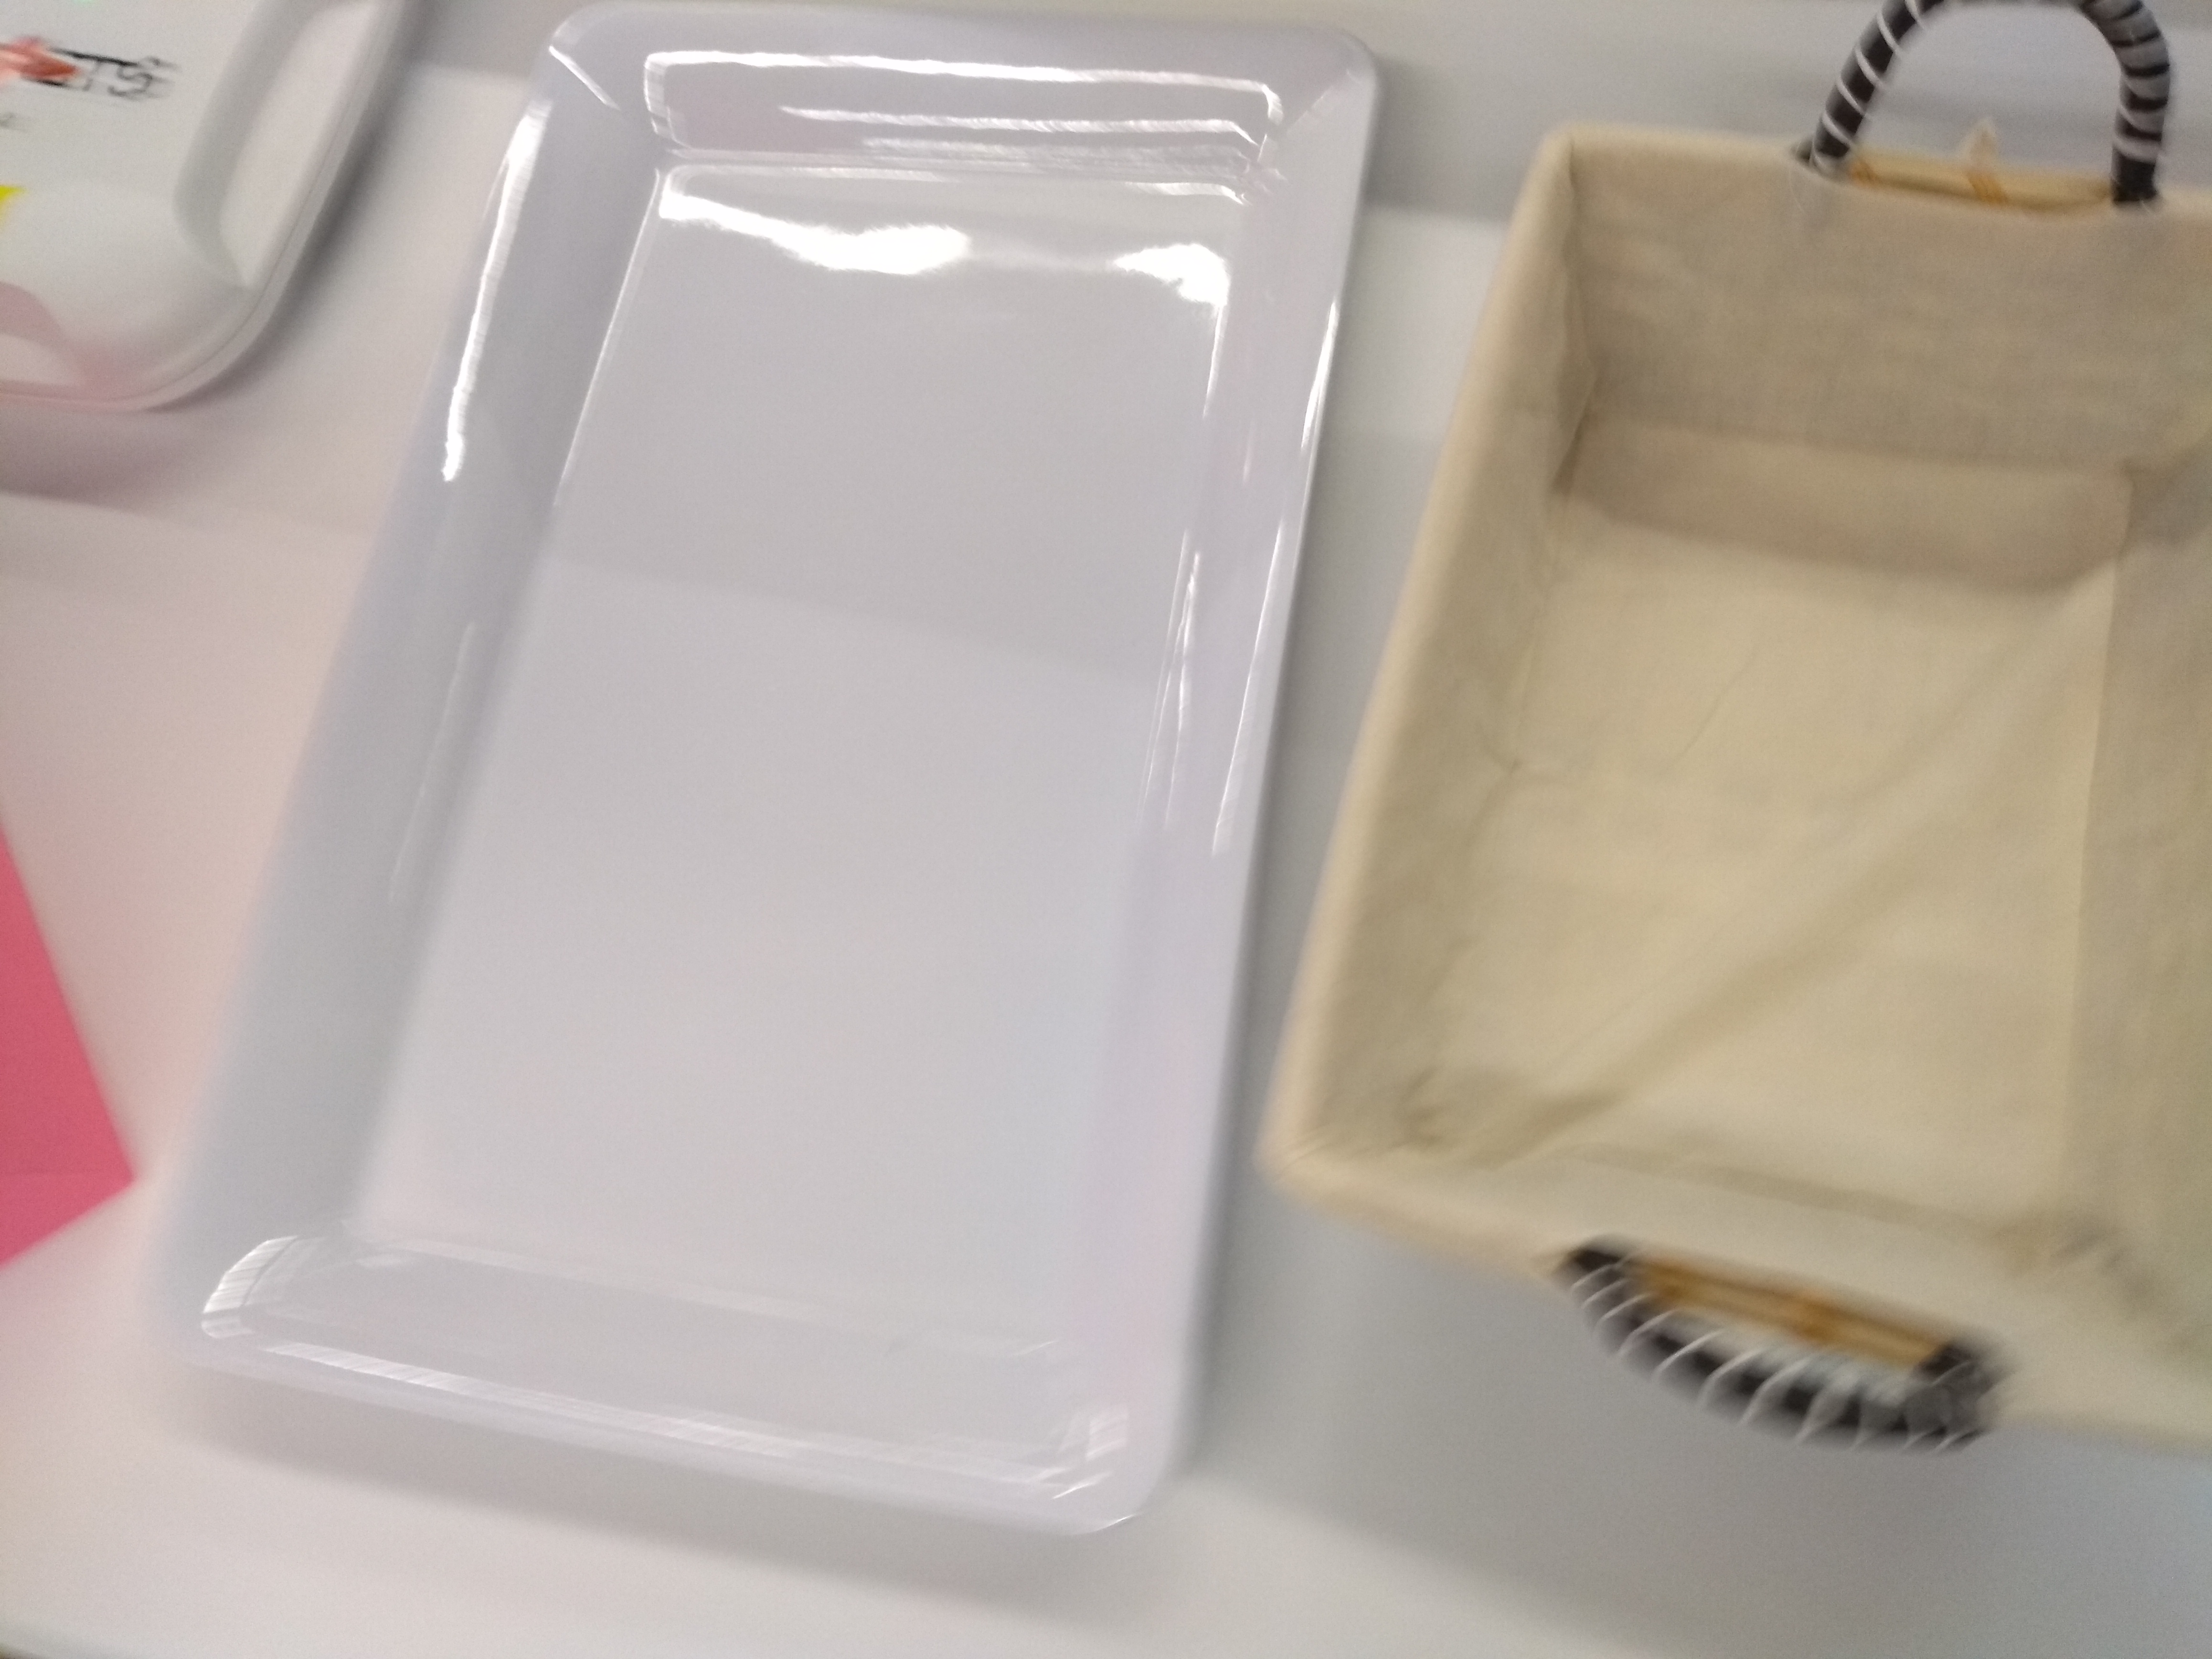basket: (1184, 0, 1252, 2)
tray: (136, 0, 1388, 1544)
